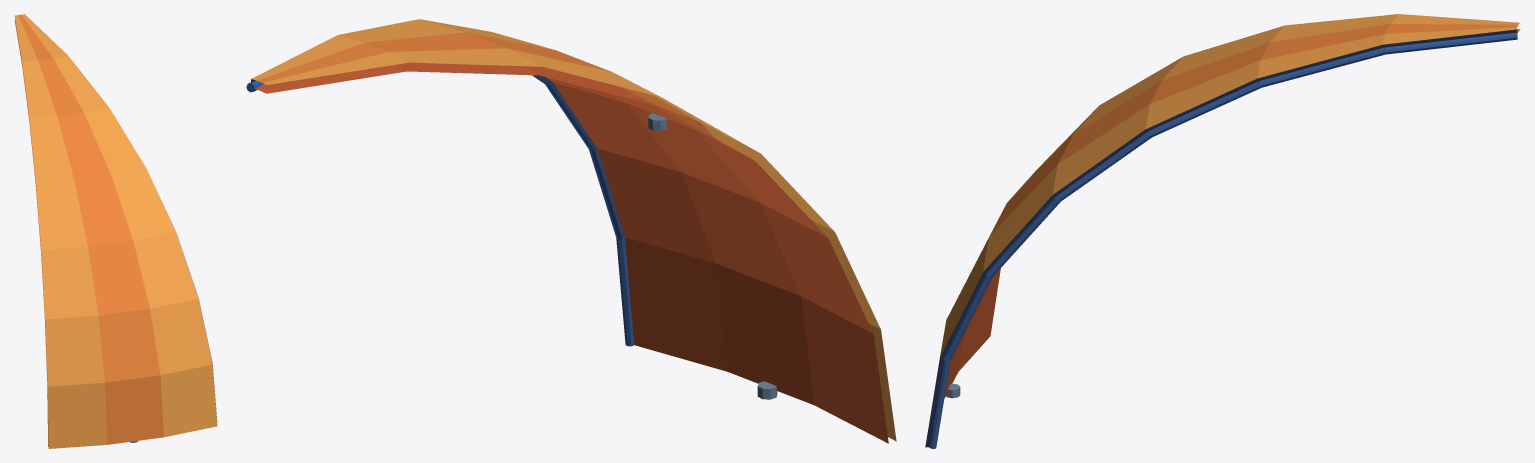
File: shutter_right.glb
3 renders of one model, left to right at view 1: azimuth 30°, elevation 25°; view 2: azimuth 150°, elevation 25°; view 3: azimuth 270°, elevation 25°, orthographic. The views are drawn at different scales.
Parts seen in each view (by area): view 1: shutter_right.001; view 2: shutter_right.001; view 3: shutter_right.001.
Part boxes in pixels (x1=…): shutter_right.001: x1=14, y1=14, x2=217, y2=448; shutter_right.001: x1=246, y1=19, x2=896, y2=443; shutter_right.001: x1=925, y1=14, x2=1520, y2=448.
Bounding box in the file's own units: 4.82 × 8.31 × 10.64.
